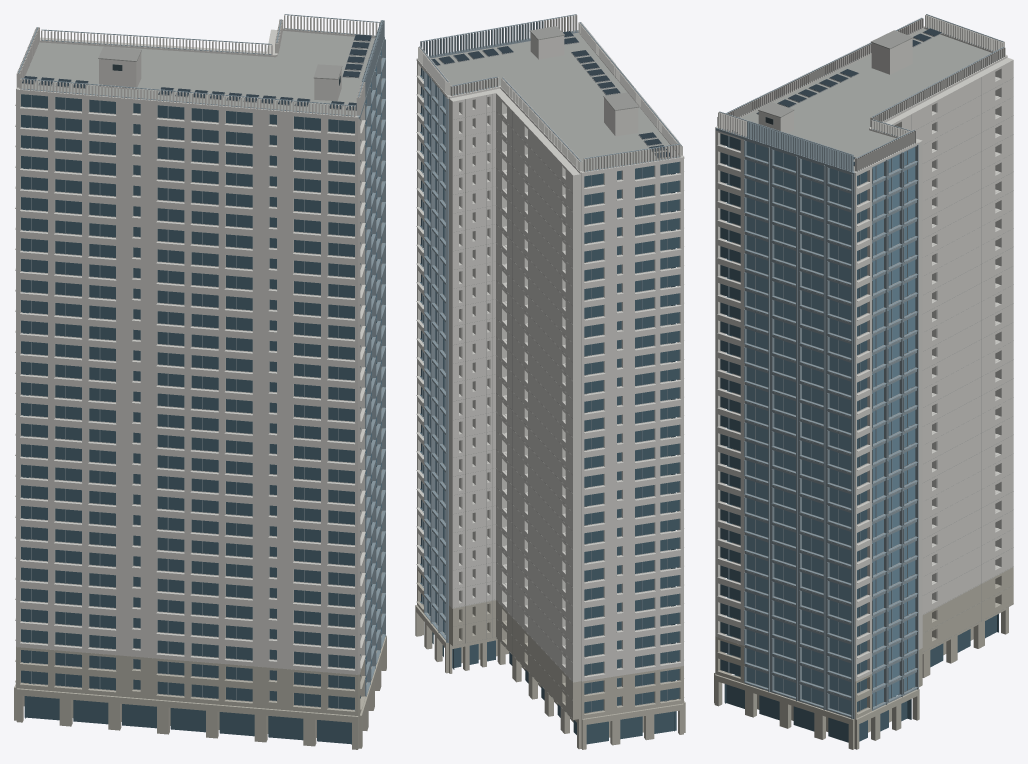
The model's file is bespoke-maple-xi-113.glb.
3 views of the same model, side by side, from view 1: azimuth 30°, elevation 25°; view 2: azimuth 150°, elevation 25°; view 3: azimuth 270°, elevation 25° (orthographic). The views are drawn at different scales.
Parts seen in each view (by area): view 1: Maple113_numbered_plan_inset_body, Maple113_e0_end_glass, Maple113_e0_end_unequal_sash, Maple113_recessed_stone_lobby, Maple113_numbered_plan_roof, Maple113_PV_cells, Maple113_e3_dark_glass, Maple113_e1_cladding_joint; view 2: Maple113_numbered_plan_inset_body, Maple113_e0_end_glass, Maple113_e0_end_unequal_sash, Maple113_recessed_stone_lobby, Maple113_numbered_plan_roof, Maple113_e1_cladding_joint, Maple113_e3_dark_glass, Maple113_PV_cells, Maple113_PV_frame; view 3: Maple113_numbered_plan_inset_body, Maple113_e3_dark_glass, Maple113_e0_end_unequal_sash, Maple113_e0_end_glass, Maple113_numbered_plan_roof, Maple113_recessed_stone_lobby, Maple113_e1_cladding_joint, Maple113_PV_cells.
Part boxes in pixels (box(x1,y1,x2,y2)): Maple113_numbered_plan_inset_body: box(15, 14, 382, 709); Maple113_e0_end_glass: box(21, 74, 377, 744); Maple113_e0_end_unequal_sash: box(18, 14, 385, 708); Maple113_recessed_stone_lobby: box(14, 594, 386, 749); Maple113_numbered_plan_roof: box(22, 31, 374, 115); Maple113_PV_cells: box(22, 34, 371, 110); Maple113_e3_dark_glass: box(365, 50, 381, 682); Maple113_e1_cladding_joint: box(98, 46, 342, 79); Maple113_numbered_plan_inset_body: box(416, 14, 684, 712); Maple113_e0_end_glass: box(421, 68, 679, 744); Maple113_e0_end_unequal_sash: box(419, 14, 681, 712); Maple113_recessed_stone_lobby: box(415, 568, 685, 749); Maple113_numbered_plan_roof: box(430, 32, 678, 171); Maple113_e1_cladding_joint: box(453, 26, 638, 717); Maple113_e3_dark_glass: box(420, 75, 445, 634); Maple113_PV_cells: box(431, 31, 669, 157); Maple113_PV_frame: box(435, 31, 672, 158); Maple113_numbered_plan_inset_body: box(715, 14, 1013, 696); Maple113_e3_dark_glass: box(746, 141, 915, 714); Maple113_e0_end_unequal_sash: box(715, 14, 1004, 718); Maple113_e0_end_glass: box(720, 133, 998, 742); Maple113_numbered_plan_roof: box(740, 29, 991, 171); Maple113_recessed_stone_lobby: box(714, 567, 1013, 749); Maple113_e1_cladding_joint: box(745, 30, 1013, 717); Maple113_PV_cells: box(732, 28, 941, 165).
Bounding box in the file's own units: 50.6 × 95.77 × 43.28.
